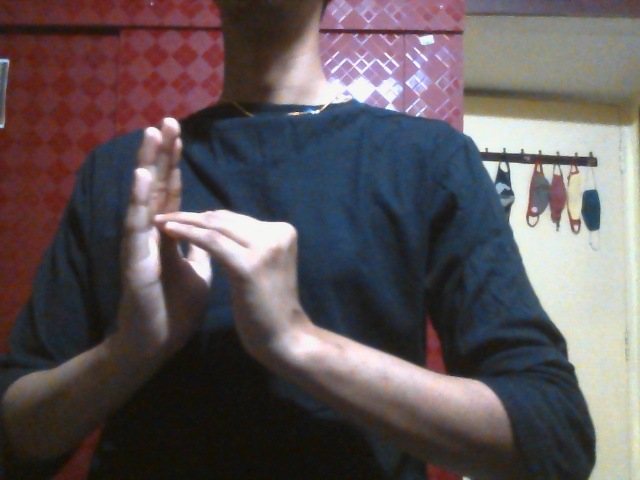Z: (106, 118, 324, 400)
